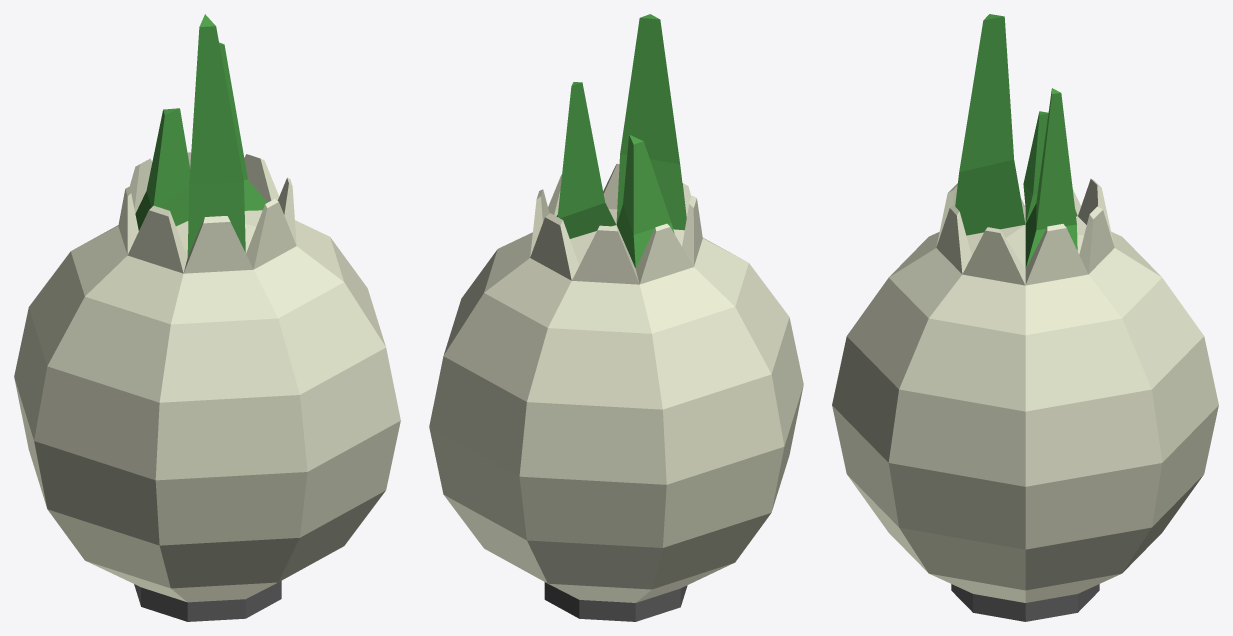
Rendered from Cebolla.fbx.
3 views of the same model, side by side, from view 1: azimuth 30°, elevation 25°; view 2: azimuth 150°, elevation 25°; view 3: azimuth 270°, elevation 25° (orthographic). The views are drawn at different scales.
Visible parts, largest first — view 1: pSphere1; view 2: pSphere1; view 3: pSphere1.
Boxes of the visible parts, <box> form: pSphere1: <box>14,14,400,621</box>; pSphere1: <box>429,14,803,621</box>; pSphere1: <box>832,14,1218,621</box>.
Bounding box in the file's own units: 1.93 × 3.25 × 1.93.
